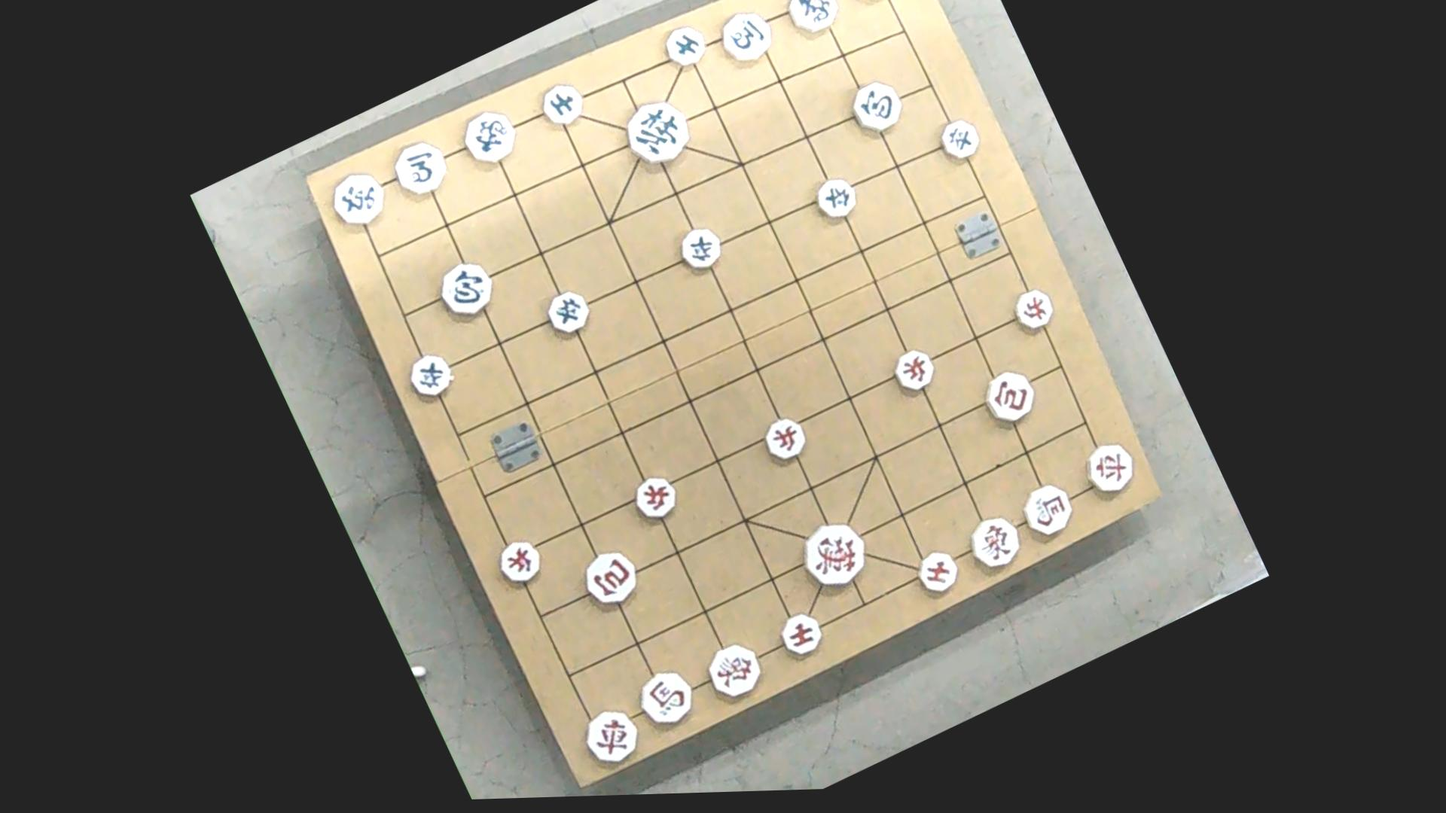cha_green: (324, 167, 389, 236), (840, 0, 900, 7)
cha_red: (575, 700, 647, 775), (1081, 437, 1141, 504)
jol_green: (402, 348, 455, 405), (674, 221, 725, 277), (811, 172, 861, 227), (540, 286, 590, 340), (935, 115, 982, 169)
jol_red: (628, 470, 685, 527), (492, 534, 548, 592), (760, 413, 810, 467), (889, 346, 938, 400), (1010, 284, 1059, 337)
ma_green: (712, 1, 777, 72), (388, 135, 452, 202)
ma_red: (633, 664, 699, 734), (1013, 480, 1075, 546)
po_green: (431, 254, 505, 330), (844, 73, 907, 139)
po_red: (578, 544, 648, 616), (980, 362, 1042, 429)
sa_green: (660, 20, 712, 77), (537, 79, 587, 132)
sa_red: (906, 542, 969, 604), (775, 607, 830, 665)
sang_green: (454, 102, 523, 171), (776, 0, 845, 44)
sang_red: (701, 635, 771, 707), (962, 511, 1025, 578)
wang_green: (620, 95, 697, 176)
wang_red: (797, 517, 873, 598)
